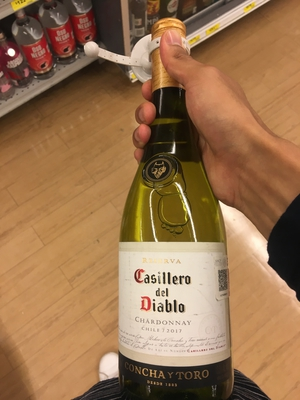casillero del diablo chardonnay: (115, 26, 245, 400)
